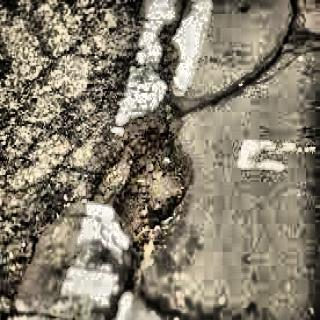crack: (199, 6, 314, 126), (152, 0, 206, 102)
pothole: (91, 105, 197, 242)
